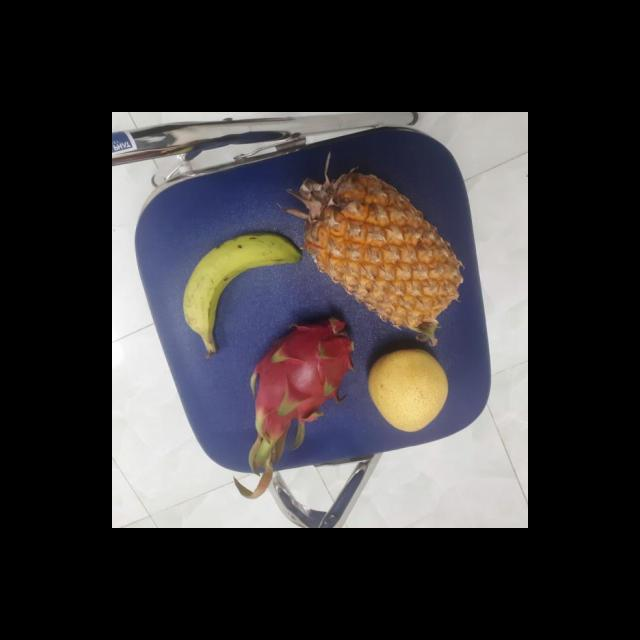banana: (180, 231, 300, 353)
pear: (362, 348, 449, 431)
pineapple: (295, 174, 454, 332)
pitaya: (248, 316, 356, 432)
